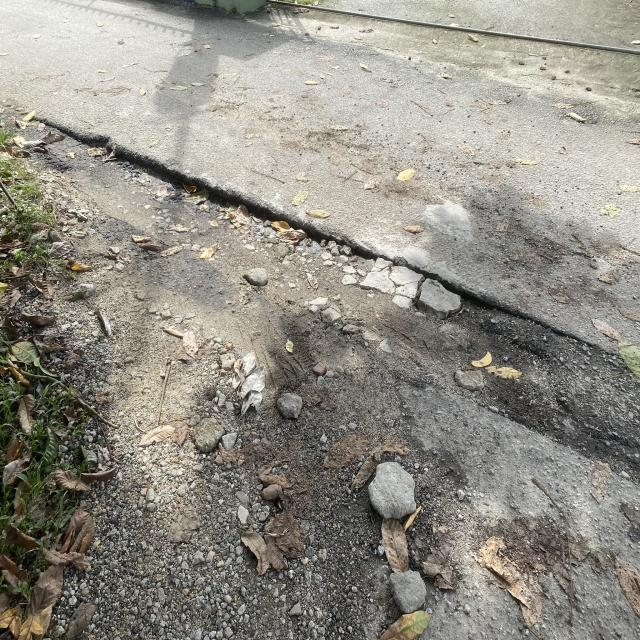pothole: (98, 117, 400, 303)
